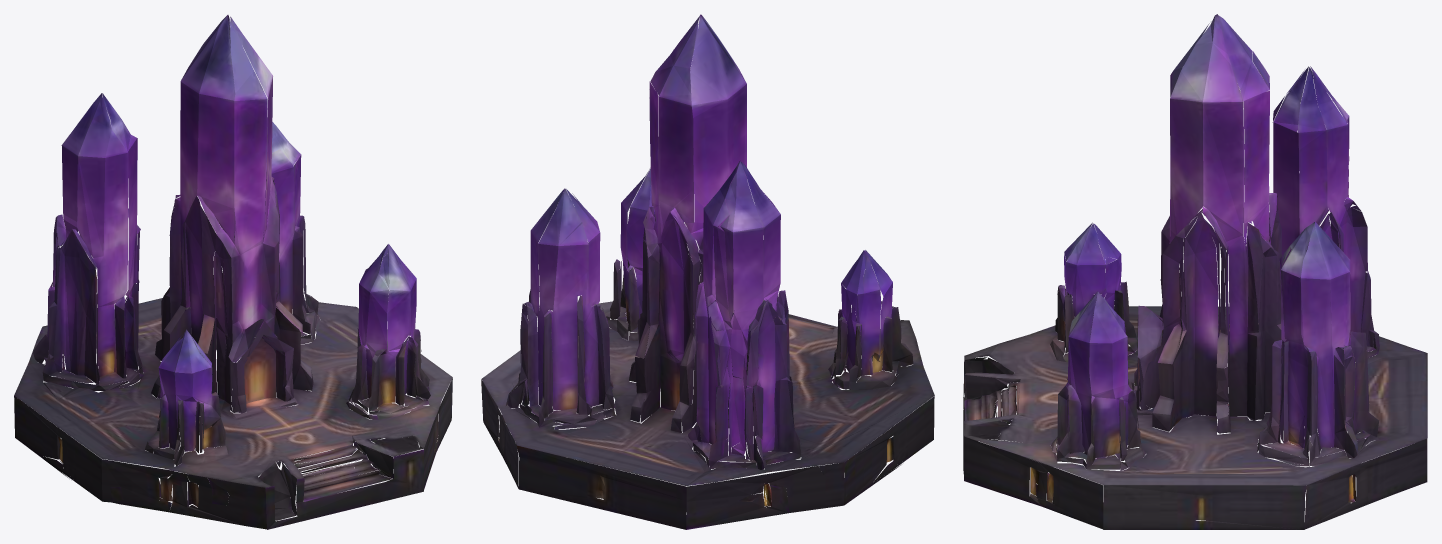
File: memory.glb
3 views of the same model, side by side, from view 1: azimuth 30°, elevation 25°; view 2: azimuth 150°, elevation 25°; view 3: azimuth 270°, elevation 25° (orthographic). The views are drawn at different scales.
Visible parts, largest first — view 1: geometry_0; view 2: geometry_0; view 3: geometry_0.
Boxes of the visible parts, <box> form: geometry_0: <box>14,15,452,529</box>; geometry_0: <box>481,14,934,529</box>; geometry_0: <box>963,14,1427,529</box>.
Bounding box in the file's own units: 0.8927 × 1 × 0.9804.
1 material, 1 textured.
